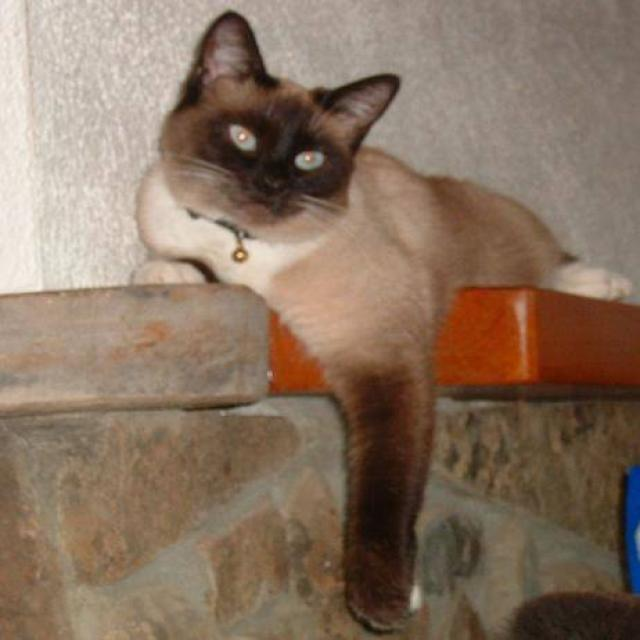cat: (129, 9, 634, 635)
